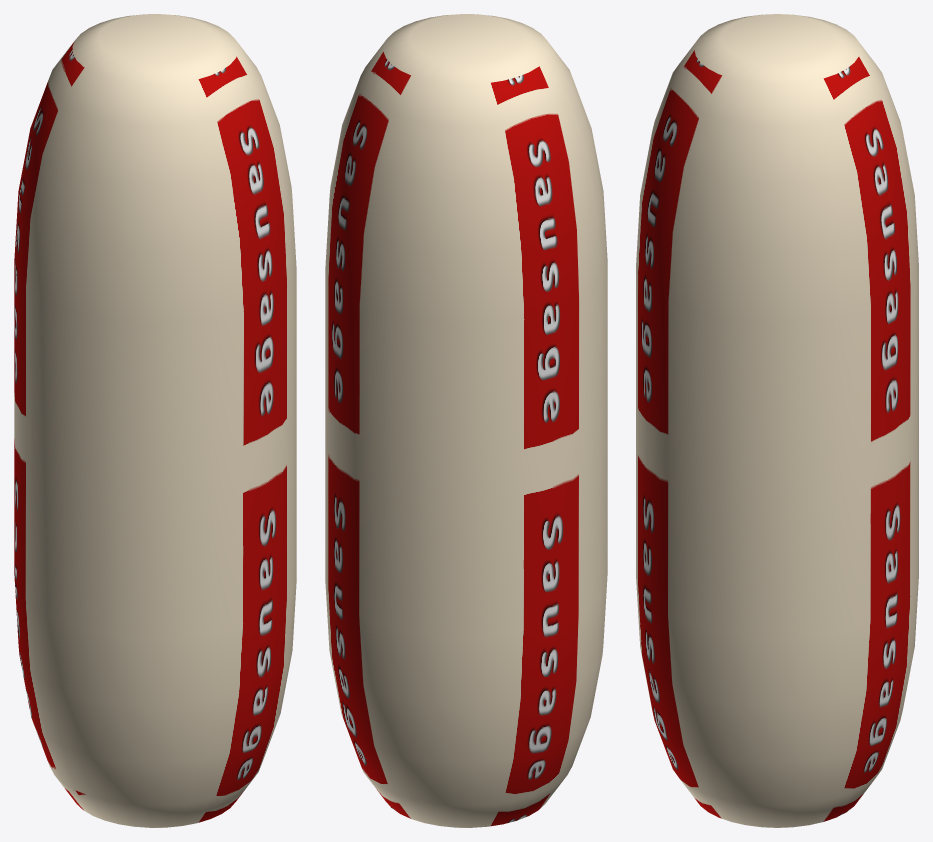
File: sucuk.fbx
3 views of the same model, side by side, from view 1: azimuth 30°, elevation 25°; view 2: azimuth 150°, elevation 25°; view 3: azimuth 270°, elevation 25° (orthographic).
Visible parts, largest first — view 1: Sucuk; view 2: Sucuk; view 3: Sucuk.
Boxes of the visible parts, x1,y1,x2,y2 form: Sucuk: (14,14,296,827); Sucuk: (325,14,607,827); Sucuk: (636,14,918,827).
Size of the model in its own units: 40 by 119 by 40.
Materials: 1 (1 with a texture image).
